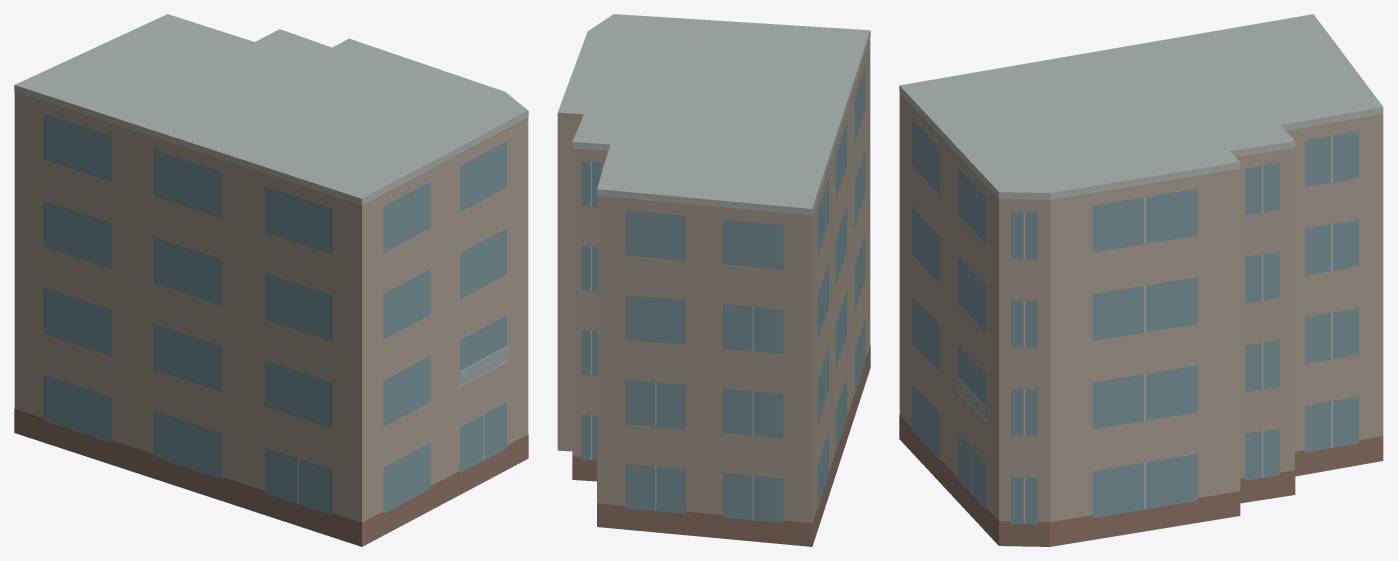
The model's file is survey-upis-33045754.glb.
3 renders of one model, left to right at view 1: azimuth 30°, elevation 25°; view 2: azimuth 150°, elevation 25°; view 3: azimuth 270°, elevation 25°, orthographic. The views are drawn at different scales.
Parts seen in each view (by area): view 1: survey-upis-33045754.tmp; view 2: survey-upis-33045754.tmp; view 3: survey-upis-33045754.tmp.
Part boxes in pixels (x1,y1,x2,y2): survey-upis-33045754.tmp: (14, 14, 528, 546); survey-upis-33045754.tmp: (557, 14, 870, 546); survey-upis-33045754.tmp: (899, 14, 1383, 546).
Size of the model in its own units: 13.8 by 12.7 by 15.75.
